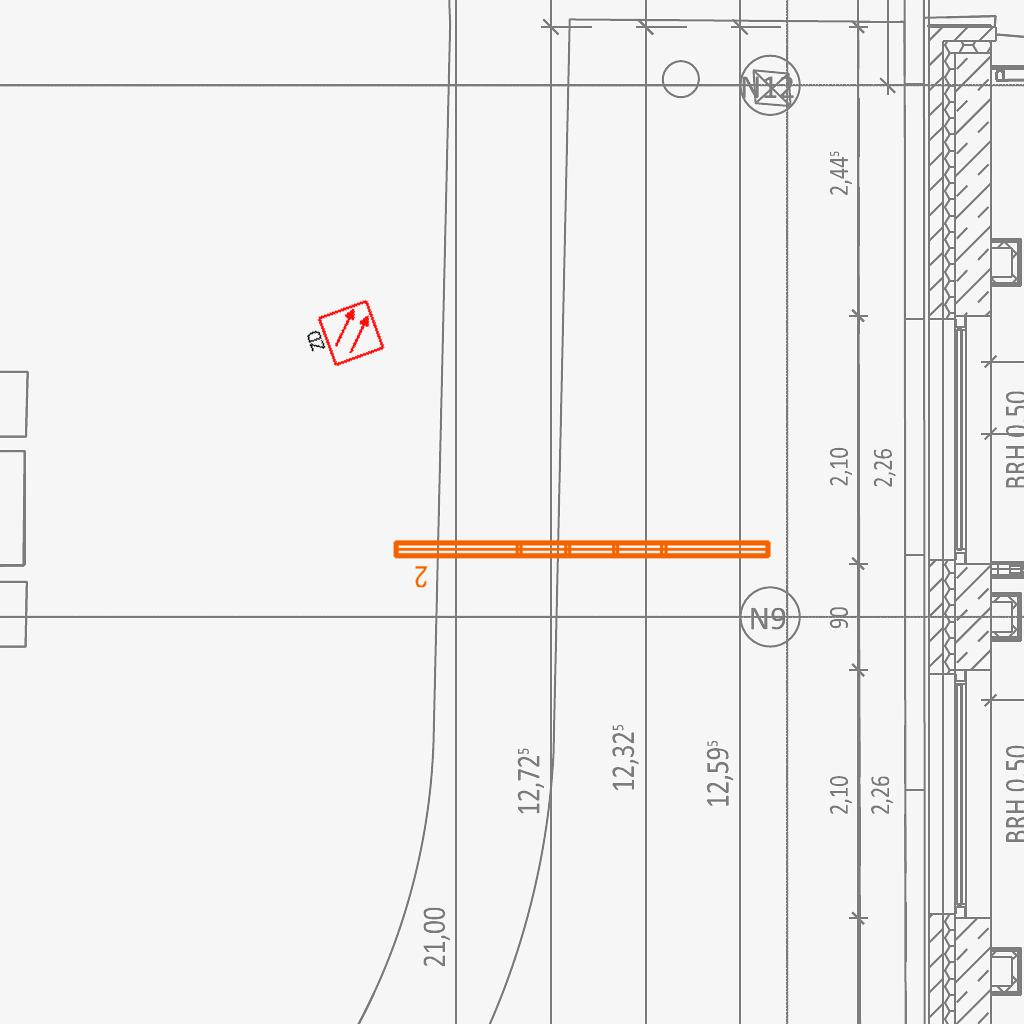Ambulanz_Pendelleuchte_LED: (389, 534, 776, 590)
ZD_Melder_in_Zwischendecke_mit_Revisionsoeffnung_mind_40_x_40_cm: (297, 297, 388, 377)
